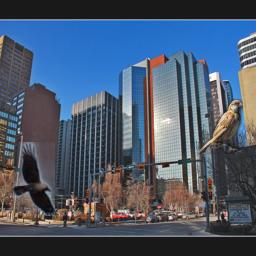Crow: (13, 142, 55, 216)
Sparrow: (197, 99, 243, 154)
